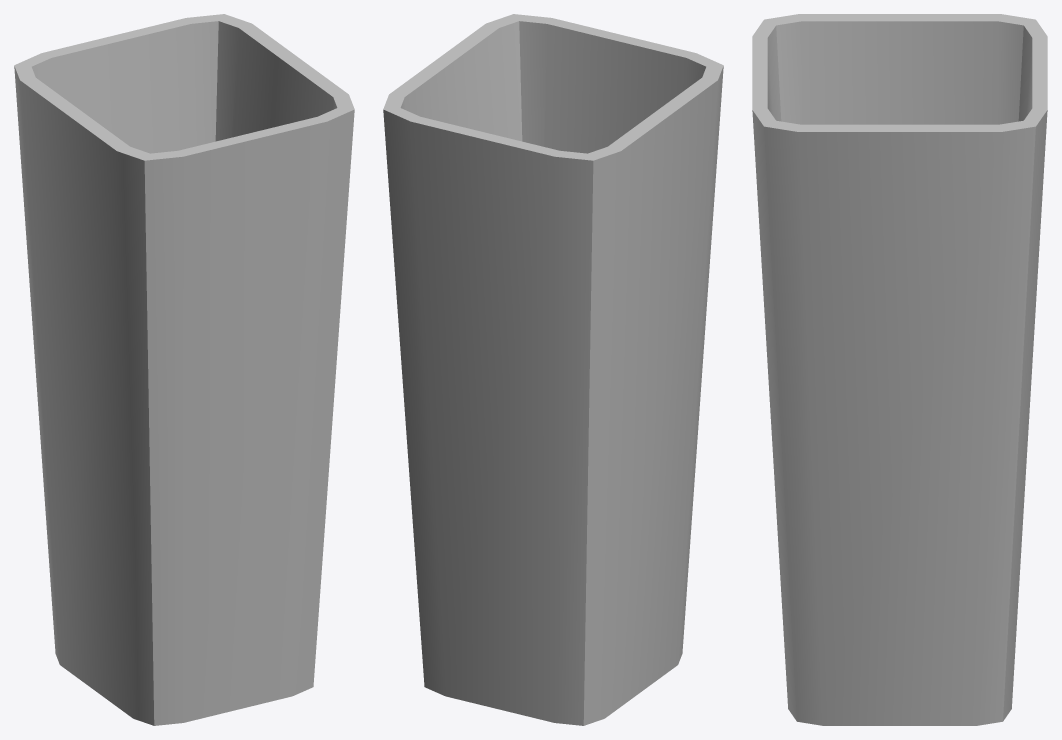
Rendered from Vase_02_M.FBX.
The picture shows the model from 3 angles, left to right: view 1: azimuth 30°, elevation 25°; view 2: azimuth 150°, elevation 25°; view 3: azimuth 270°, elevation 25°; orthographic projection. The views are drawn at different scales.
Parts seen in each view (by area): view 1: Vase_02; view 2: Vase_02; view 3: Vase_02.
Part boxes in pixels (box(x1,y1,x2,y2)): Vase_02: box(14, 14, 354, 725); Vase_02: box(383, 14, 723, 725); Vase_02: box(752, 14, 1047, 725).
Size of the model in its own units: 37.5 by 90 by 39.6.
